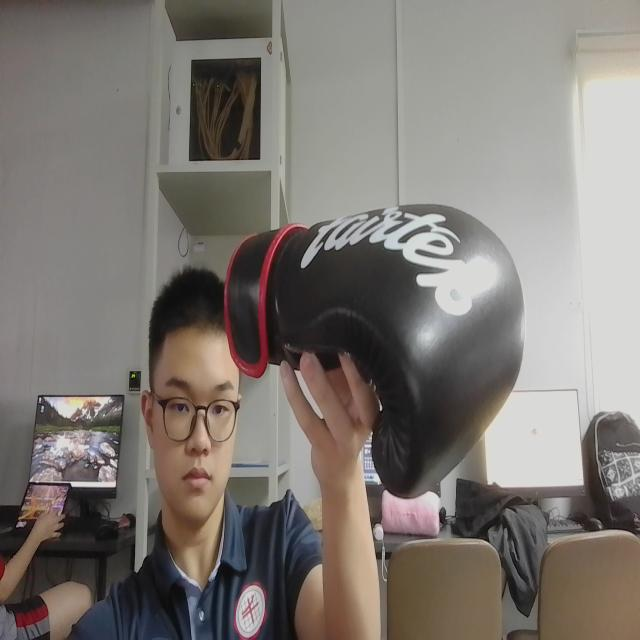boxing glove: (212, 184, 534, 518)
